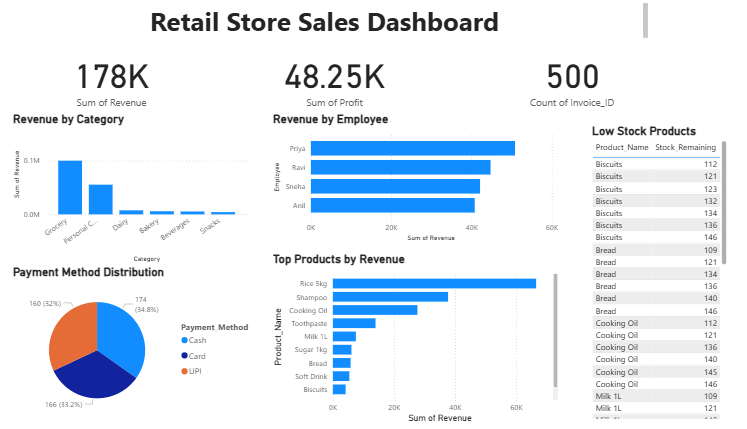

What the dashboard file says about the page in this screenshot:
{"tool":"powerbi","page":{"name":"Page 1","canvas":[1280,720],"ordinal":0},"visuals":[{"type":"card","fields":{"Values":["Sum(local_store_sales_cleaned.Revenue)"]},"box":[60.6,88.5,280.3,109.8],"z":0},{"type":"card","fields":{"Values":["Sum(local_store_sales_cleaned.Profit)"]},"box":[385.1,88.5,362.2,109.8],"z":1},{"type":"card","fields":{"Values":["CountNonNull(local_store_sales_cleaned.Invoice_ID)"]},"box":[826,90.1,259,106.5],"z":2},{"type":"columnChart","fields":{"Category":["local_store_sales_cleaned.Category"],"Y":["Sum(local_store_sales_cleaned.Revenue)"]},"box":[98.5,229.2,275.4,220],"z":3},{"type":"pieChart","fields":{"Category":["local_store_sales_cleaned.Payment_Method"],"Y":["CountNonNull(local_store_sales_cleaned.Invoice_ID)"]},"box":[72.3,463.1,356.9,243.1],"z":4},{"type":"barChart","fields":{"Category":["local_store_sales_cleaned.Product_Name"],"Y":["Sum(local_store_sales_cleaned.Revenue)"]},"box":[450.8,449.2,430.8,270.8],"z":5},{"type":"barChart","fields":{"Category":["local_store_sales_cleaned.Employee"],"Y":["Sum(local_store_sales_cleaned.Revenue)"]},"box":[441.5,218.5,440,195.4],"z":6},{"type":"textbox","box":[259,26.2,826,63.9],"z":7},{"type":"tableEx","fields":{"Values":["local_store_sales_cleaned.Product_Name","local_store_sales_cleaned.Stock_Remaining"]},"box":[926.2,218.5,241.5,501.5],"z":8}]}

Visuals, with their boxes in screenshot pixels (x1, y1, x2, y2), scaled from the page's 1280x720 canvas onto the 747x429 screenshot:
card - Sum(local_store_sales_cleaned.Revenue): [35, 53, 199, 118]
card - Sum(local_store_sales_cleaned.Profit): [225, 53, 436, 118]
card - CountNonNull(local_store_sales_cleaned.Invoice_ID): [482, 54, 633, 117]
columnChart - local_store_sales_cleaned.Category x Sum(local_store_sales_cleaned.Revenue): [57, 137, 218, 268]
pieChart - local_store_sales_cleaned.Payment_Method x CountNonNull(local_store_sales_cleaned.Invoice_ID): [42, 276, 250, 421]
barChart - local_store_sales_cleaned.Product_Name x Sum(local_store_sales_cleaned.Revenue): [263, 268, 514, 428]
barChart - local_store_sales_cleaned.Employee x Sum(local_store_sales_cleaned.Revenue): [258, 130, 514, 247]
textbox: [151, 16, 633, 54]
tableEx - local_store_sales_cleaned.Product_Name x local_store_sales_cleaned.Stock_Remaining: [541, 130, 681, 428]
